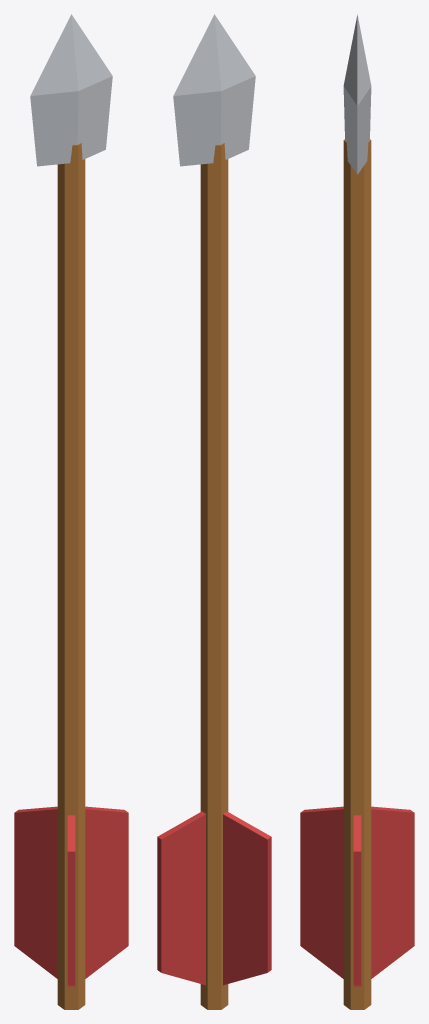
Rendered from Arrow.fbx.
The picture shows the model from 3 angles, left to right: view 1: azimuth 30°, elevation 25°; view 2: azimuth 210°, elevation 25°; view 3: azimuth 270°, elevation 25°; orthographic projection.
Parts seen in each view (by area): view 1: Arrow; view 2: Arrow; view 3: Arrow.
Part boxes in pixels (x1=…): Arrow: x1=14, y1=14, x2=128, y2=1009; Arrow: x1=157, y1=14, x2=271, y2=1009; Arrow: x1=300, y1=14, x2=414, y2=1009.
Size of the model in its own units: 0.28 by 2.75 by 0.2871.
1 material, 1 textured.
